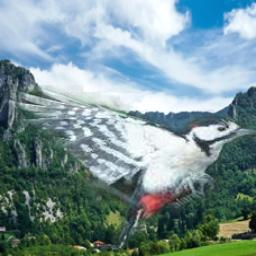Woodpecker: (6, 86, 256, 249)
